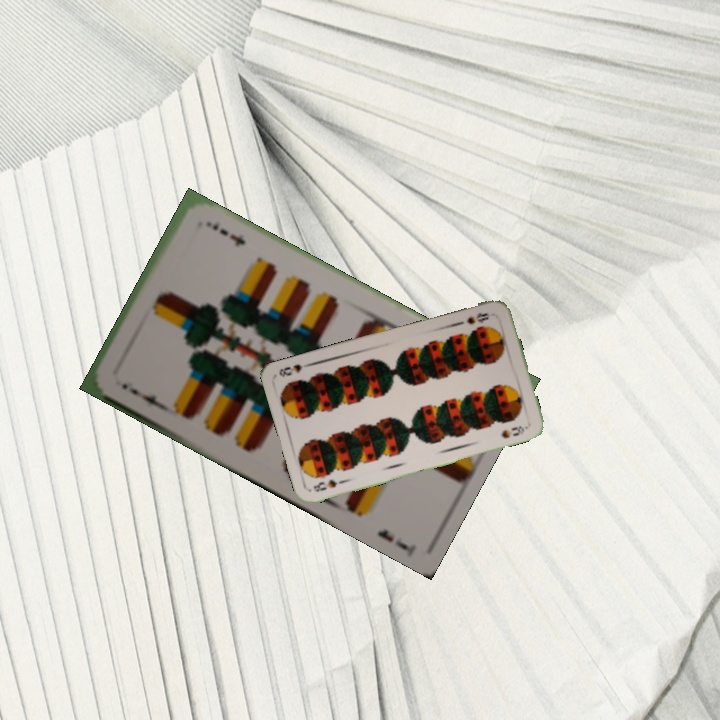E7: (117, 379, 166, 412)
S8: (309, 475, 349, 494), (462, 309, 492, 327)
